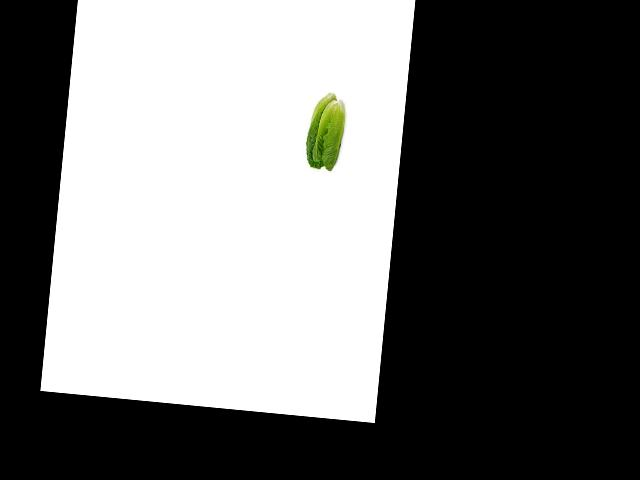lettuce: (304, 91, 352, 173)
